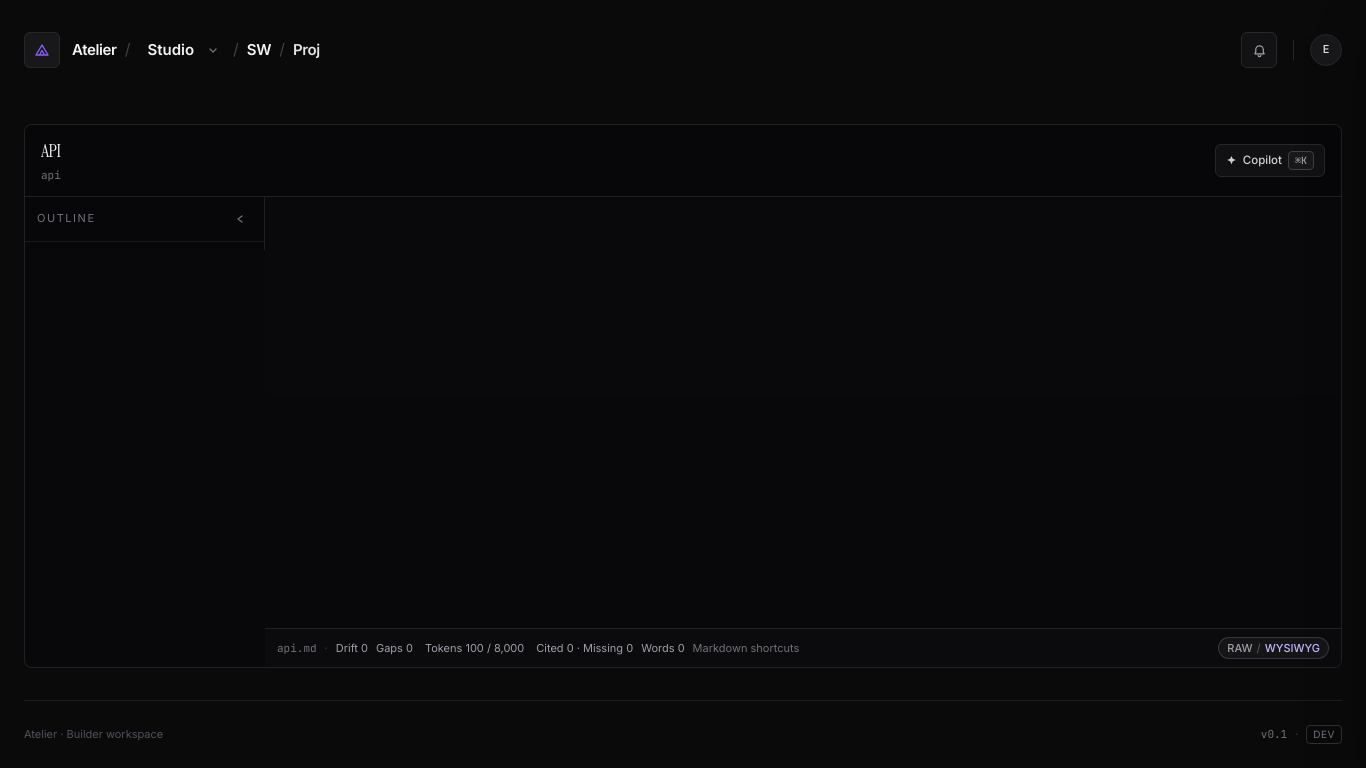
OutlineEditorV2 › opens copilot overlay when header toggle is clicked
Expected: the element with test id "doc-canvas" is shown, [265, 196, 1341, 396]
Click the button with test id "copilot-header-toggle": (1270, 160) [1215, 144, 1325, 177]
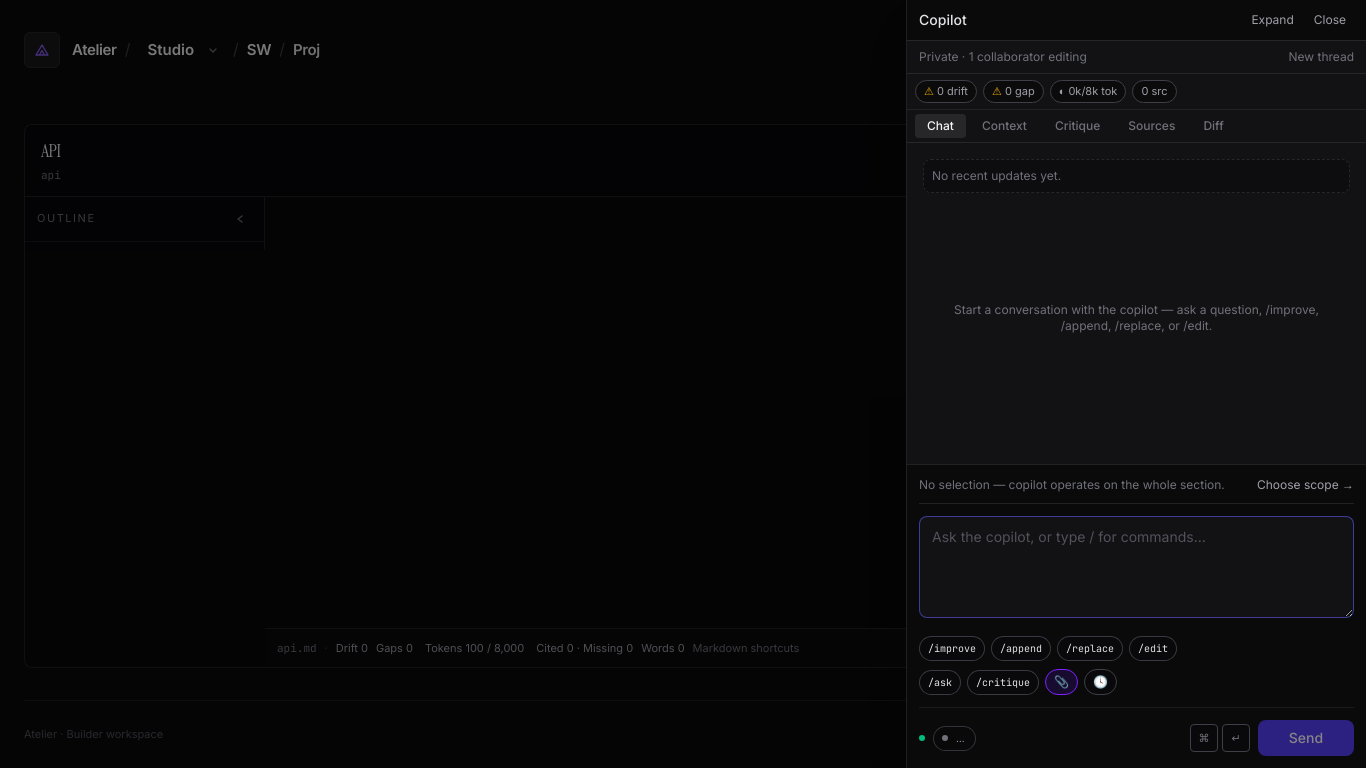
Expected: the element with test id "copilot-overlay" is shown, [906, 0, 1365, 767]
